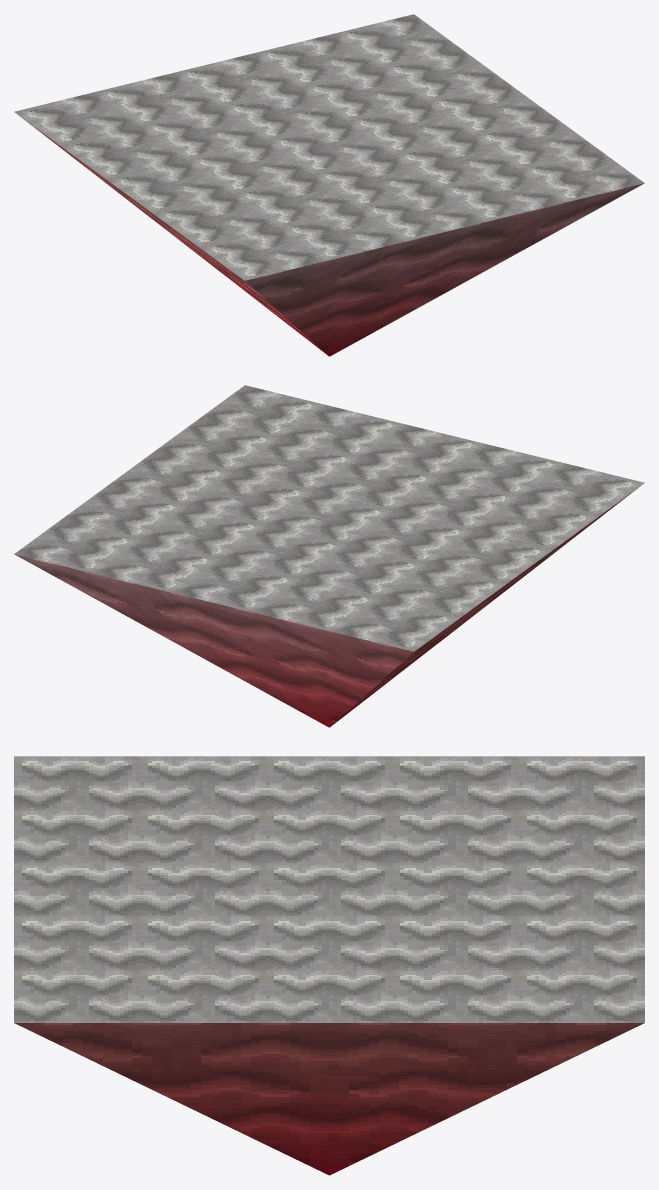
Rendered from km2_rift01.glb.
3 views of the same model, one above another, from view 1: azimuth 30°, elevation 25°; view 2: azimuth 150°, elevation 25°; view 3: azimuth 270°, elevation 25° (orthographic). The views are drawn at different scales.
Visible parts, largest first — view 1: km2_rift01; view 2: km2_rift01; view 3: km2_rift01.
Part boxes in pixels (x1,y1,x2,y2): km2_rift01: (14,14,644,356); km2_rift01: (14,385,644,727); km2_rift01: (14,756,644,1175).
Size of the model in its own units: 9.38 by 4.69 by 9.38.
1 material, 1 textured.
